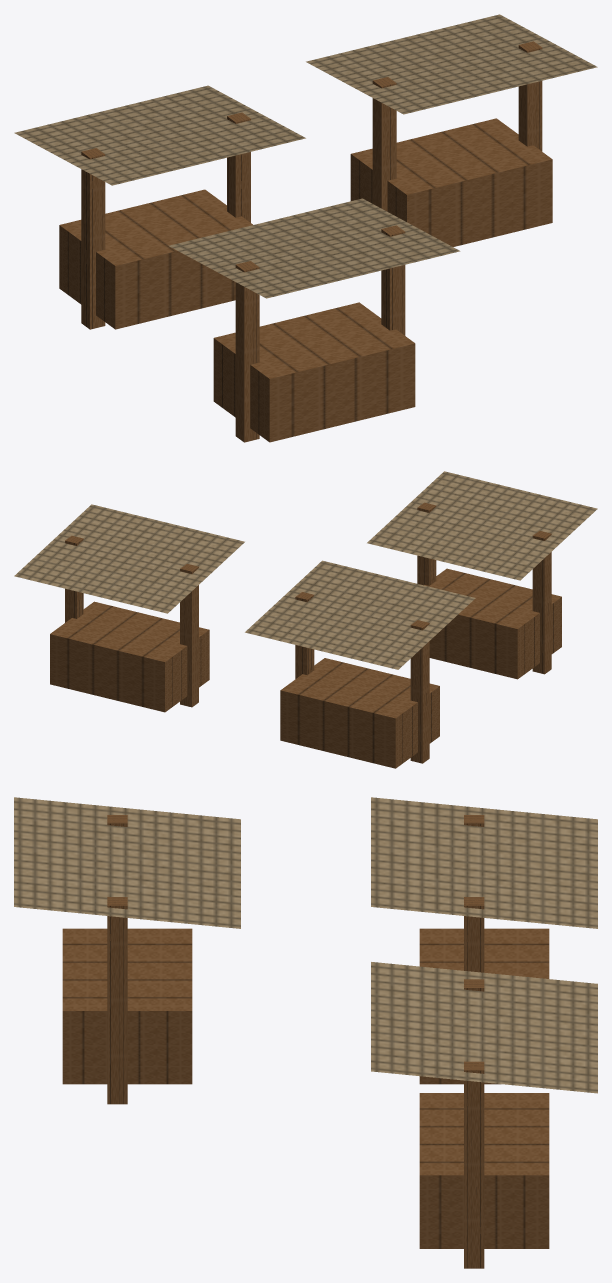
File: domestic-MARKET-2-lod1.glb
3 renders of one model, top to bottom at view 1: azimuth 30°, elevation 25°; view 2: azimuth 150°, elevation 25°; view 3: azimuth 270°, elevation 25°, orthographic. The views are drawn at different scales.
Bounding box in the file's own units: 0.8 × 0.28 × 0.72.
1 material, 1 textured.
